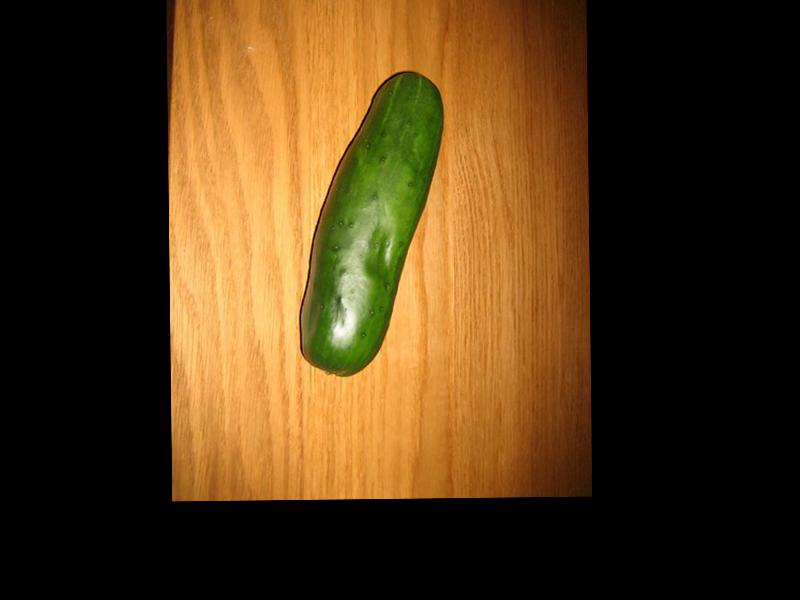Cucumber: (296, 70, 444, 373)
